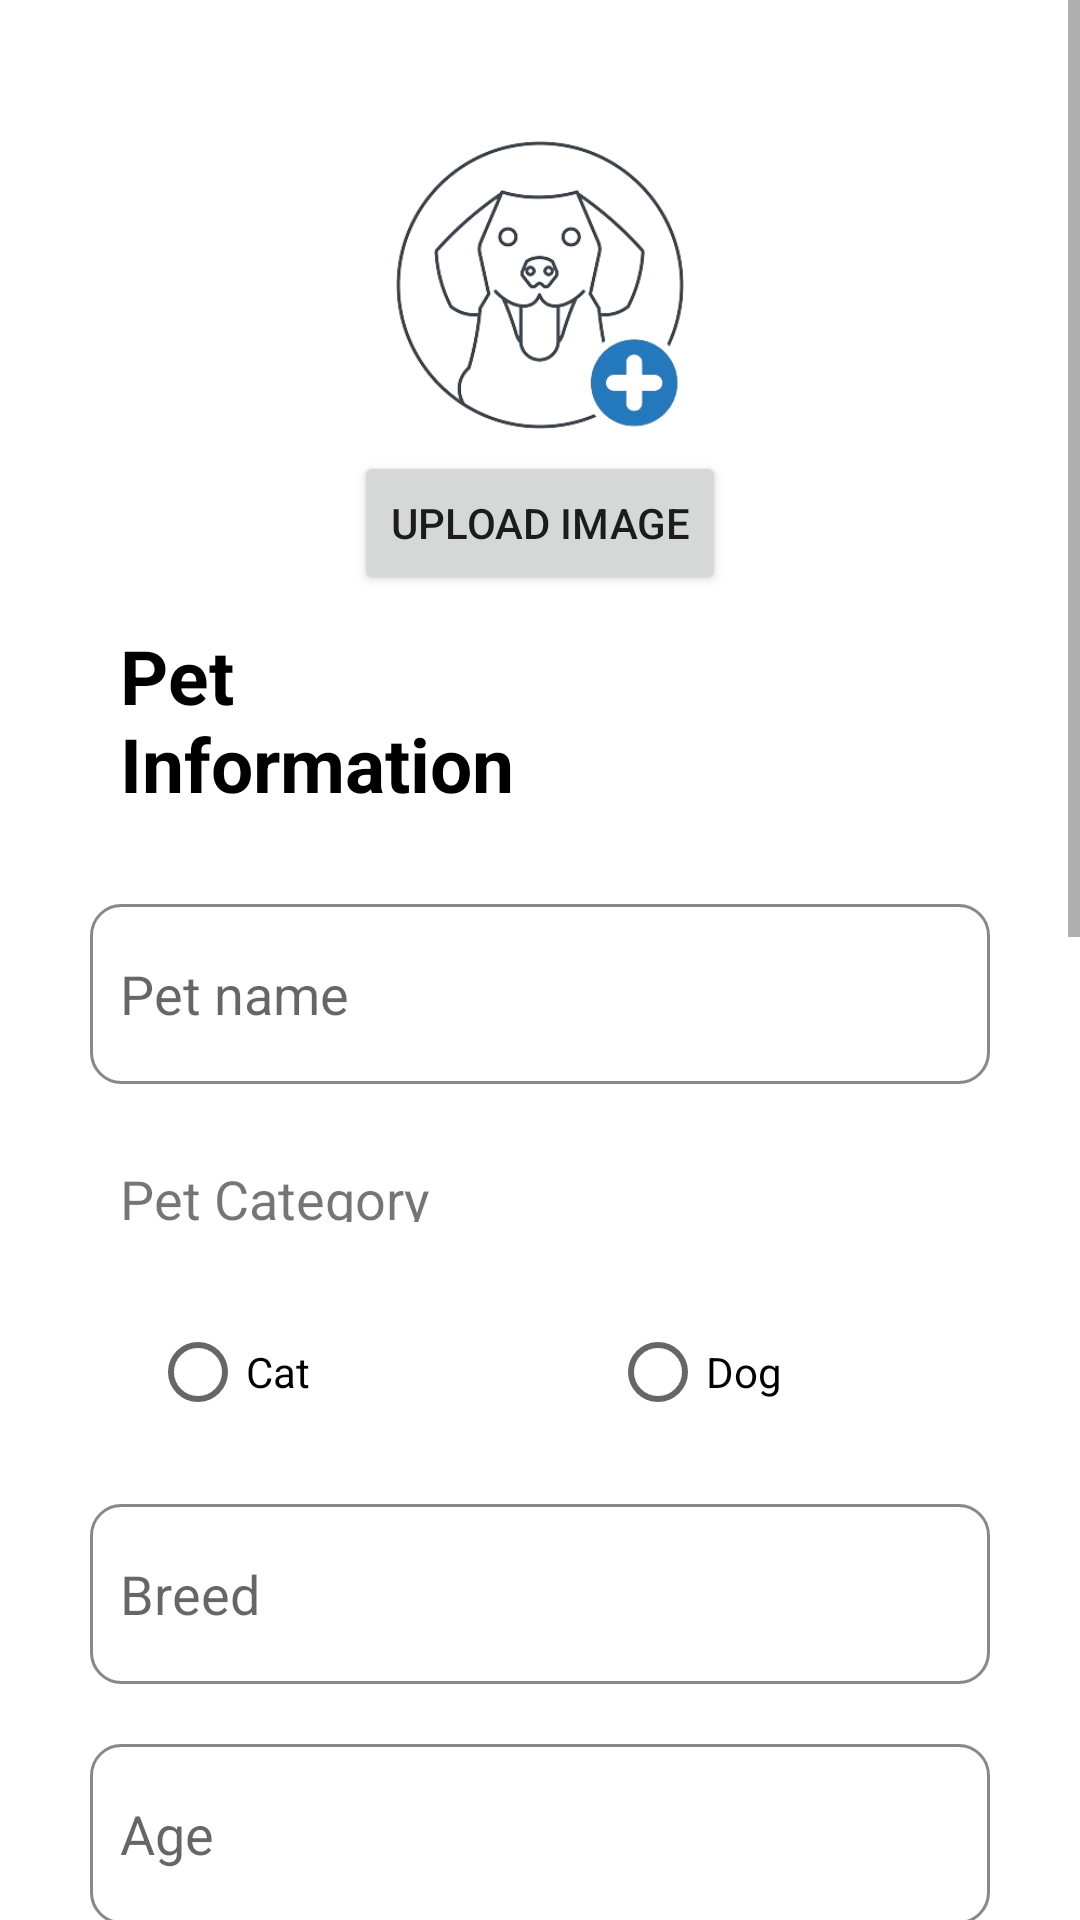

Icon bounding boxes for this 1080*1920 phone screenshot, format (x1, y1, x2, y2):
addnewpetimg: (396, 141, 684, 429)
